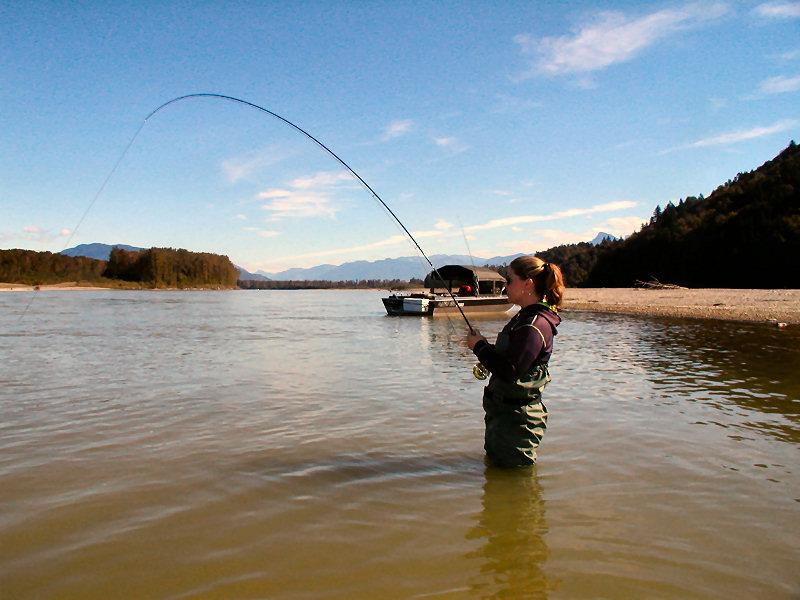person: (464, 256, 564, 468)
